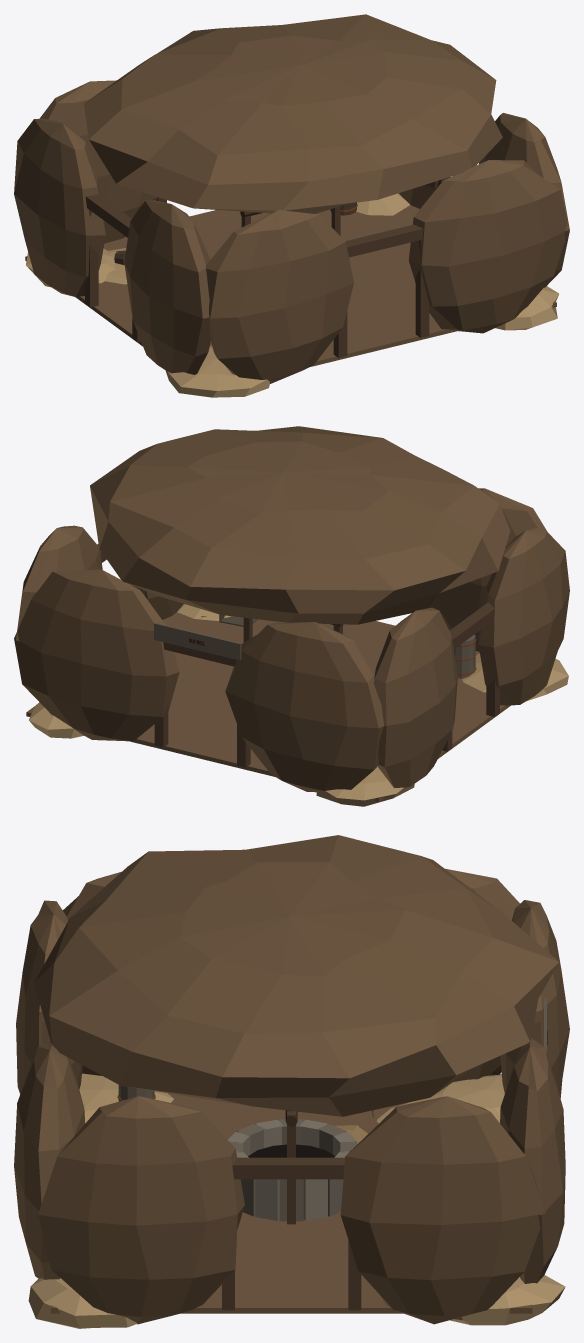
Rendered from TownBldg_well.glb.
3 views of the same model, one above another, from view 1: azimuth 30°, elevation 25°; view 2: azimuth 150°, elevation 25°; view 3: azimuth 270°, elevation 25° (orthographic). The views are drawn at different scales.
Parts seen in each view (by area): view 1: TownBldg_well.001; view 2: TownBldg_well.001; view 3: TownBldg_well.001.
Part boxes in pixels (x1,y1,x2,y2): TownBldg_well.001: (14, 14, 569, 397); TownBldg_well.001: (14, 426, 569, 806); TownBldg_well.001: (14, 835, 569, 1328).
Size of the model in its own units: 10.28 by 5.75 by 9.24.
